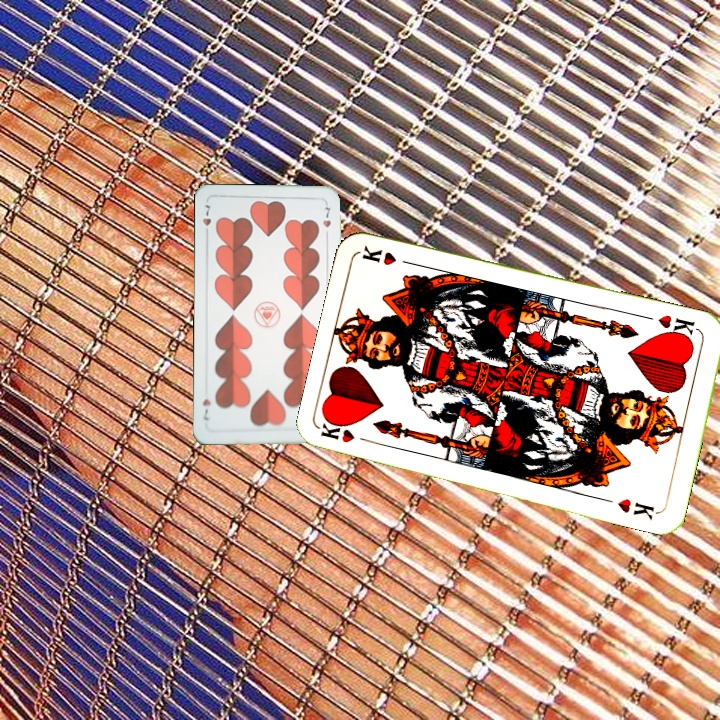H7: (199, 201, 213, 239)
HK: (318, 420, 378, 447), (654, 310, 702, 343)
